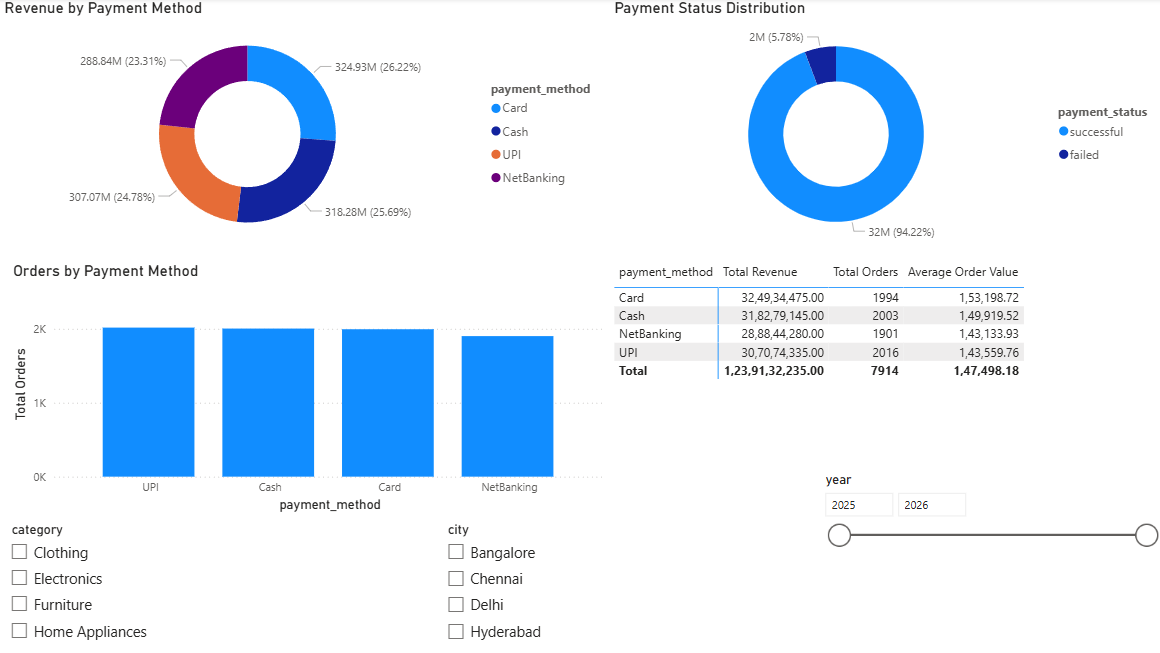

The dashboard page shown, as its layout file describes it:
{"tool":"powerbi","page":{"name":"Payment Analysis","canvas":[1280,720],"ordinal":3},"visuals":[{"type":"donutChart","title":"Revenue by Payment Method","fields":{"Category":["cleaned_retail_data.payment_method"],"Y":["cleaned_retail_data.Total Revenue"]},"box":[0,0,669.6,279.9],"z":0},{"type":"clusteredColumnChart","title":"Orders by Payment Method","fields":{"Category":["cleaned_retail_data.payment_method"],"Y":["cleaned_retail_data.Total Orders"]},"box":[9.6,289.5,660,279.9],"z":1000},{"type":"donutChart","title":"Payment Status Distribution","fields":{"Category":["cleaned_retail_data.payment_status"],"Y":["Sum(cleaned_retail_data.transaction_id)"]},"box":[669.6,0,610.6,279.9],"z":2000},{"type":"pivotTable","fields":{"Rows":["cleaned_retail_data.payment_method"],"Values":["cleaned_retail_data.Total Revenue","cleaned_retail_data.Total Orders","cleaned_retail_data.Average Order Value"]},"box":[669.6,284,596.9,230.5],"z":3000},{"type":"slicer","fields":{"Values":["cleaned_retail_data.category"]},"box":[0,569.5,387,150.9],"z":4000},{"type":"slicer","fields":{"Values":["cleaned_retail_data.city"]},"box":[478.9,569.5,443.2,150.9],"z":5000},{"type":"slicer","fields":{"Values":["cleaned_retail_data.year"]},"box":[893.3,514.6,387,205.8],"z":6000}]}

Visuals, with their boxes in screenshot pixels (x1, y1, x2, y2), scaled from the page's 1280x720 canvas onto the 1160x653 screenshot:
"Revenue by Payment Method" donutChart: bbox=[0, 0, 607, 254]
"Orders by Payment Method" clusteredColumnChart: bbox=[9, 263, 607, 516]
"Payment Status Distribution" donutChart: bbox=[607, 0, 1159, 254]
pivotTable - cleaned_retail_data.payment_method x cleaned_retail_data.Total Revenue: bbox=[607, 258, 1148, 467]
slicer - cleaned_retail_data.category: bbox=[0, 517, 351, 652]
slicer - cleaned_retail_data.city: bbox=[434, 517, 836, 652]
slicer - cleaned_retail_data.year: bbox=[810, 467, 1159, 652]
